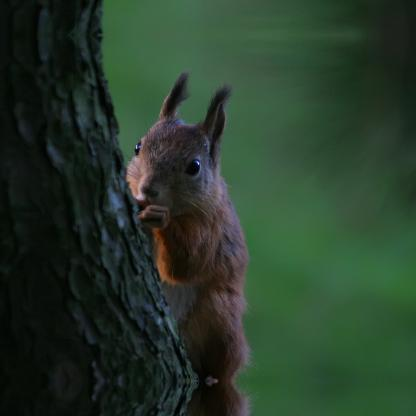Squirrel: (128, 68, 254, 380)
